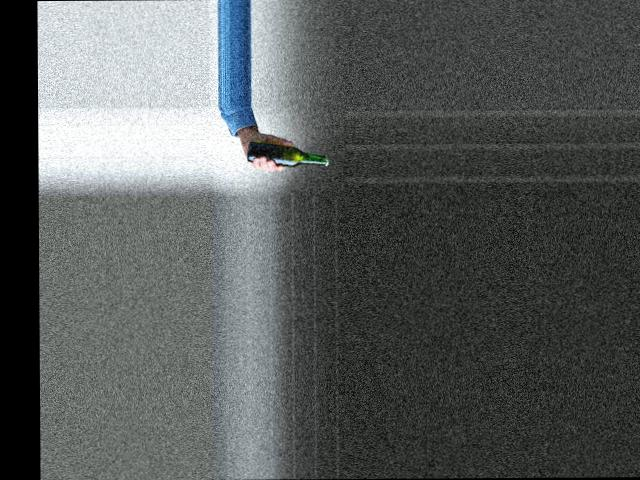beer: (247, 140, 329, 166)
